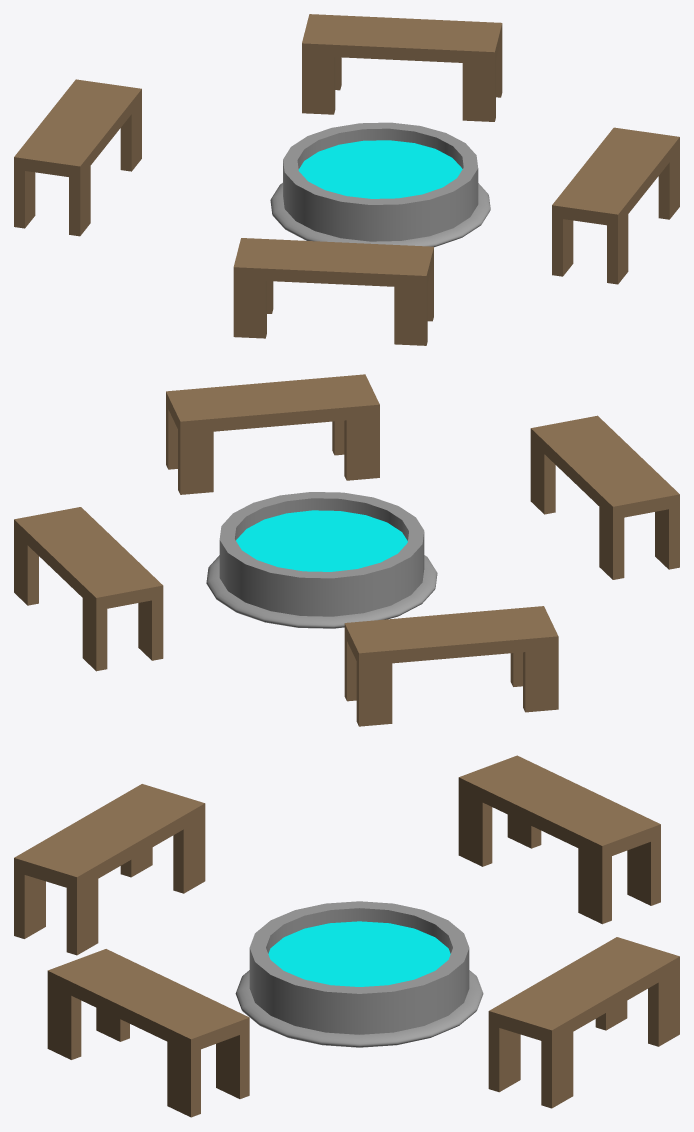
The model's file is fountain2.fbx.
3 views of the same model, one above another, from view 1: azimuth 30°, elevation 25°; view 2: azimuth 150°, elevation 25°; view 3: azimuth 270°, elevation 25° (orthographic). The views are drawn at different scales.
Parts seen in each view (by area): view 1: polySurface5, polySurface3, polySurface7, polySurface6, polySurface8, polySurface4, polySurface2; view 2: polySurface6, polySurface8, polySurface3, polySurface7, polySurface5, polySurface4, polySurface2; view 3: polySurface6, polySurface8, polySurface5, polySurface7, polySurface3, polySurface4, polySurface2.
Part boxes in pixels (<box>): polySurface5: <box>302,14,502,121</box>; polySurface3: <box>283,122,478,241</box>; polySurface7: <box>233,238,433,345</box>; polySurface6: <box>14,79,141,236</box>; polySurface8: <box>552,127,679,284</box>; polySurface4: <box>298,140,462,198</box>; polySurface2: <box>270,183,490,247</box>; polySurface6: <box>344,606,558,726</box>; polySurface8: <box>166,374,379,494</box>; polySurface3: <box>219,492,424,616</box>; polySurface7: <box>530,415,679,579</box>; polySurface5: <box>14,507,163,671</box>; polySurface4: <box>236,510,407,571</box>; polySurface2: <box>206,555,437,628</box>; polySurface6: <box>458,755,660,924</box>; polySurface8: <box>47,949,249,1117</box>; polySurface5: <box>488,937,679,1108</box>; polySurface7: <box>14,784,205,955</box>; polySurface3: <box>249,901,469,1034</box>; polySurface4: <box>268,921,450,986</box>; polySurface2: <box>235,970,483,1047</box>.
Size of the model in its own units: 1.7 by 0.229 by 1.69.
